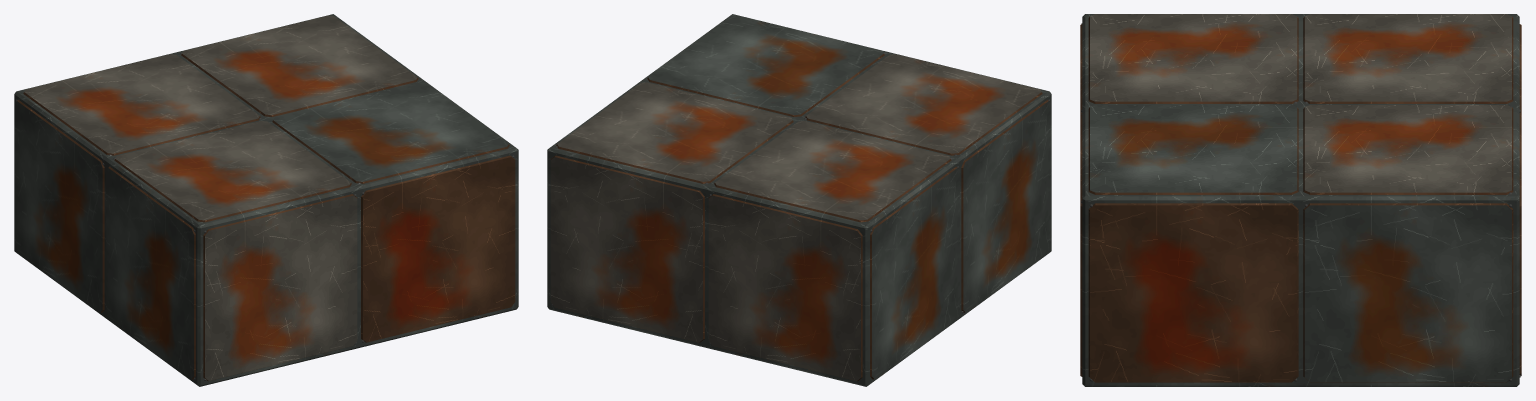
Rendered from R4B_Slab2x2.glb.
3 renders of one model, left to right at view 1: azimuth 30°, elevation 25°; view 2: azimuth 150°, elevation 25°; view 3: azimuth 270°, elevation 25°, orthographic. The views are drawn at different scales.
Parts seen in each view (by area): view 1: R4B_Slab2x2; view 2: R4B_Slab2x2; view 3: R4B_Slab2x2.
Part boxes in pixels (x1,y1,x2,y2): R4B_Slab2x2: (14, 14, 518, 386); R4B_Slab2x2: (547, 14, 1051, 386); R4B_Slab2x2: (1080, 14, 1521, 386).
Bounding box in the file's own units: 1.07 × 0.52 × 1.07.
4 materials, 4 textured.
